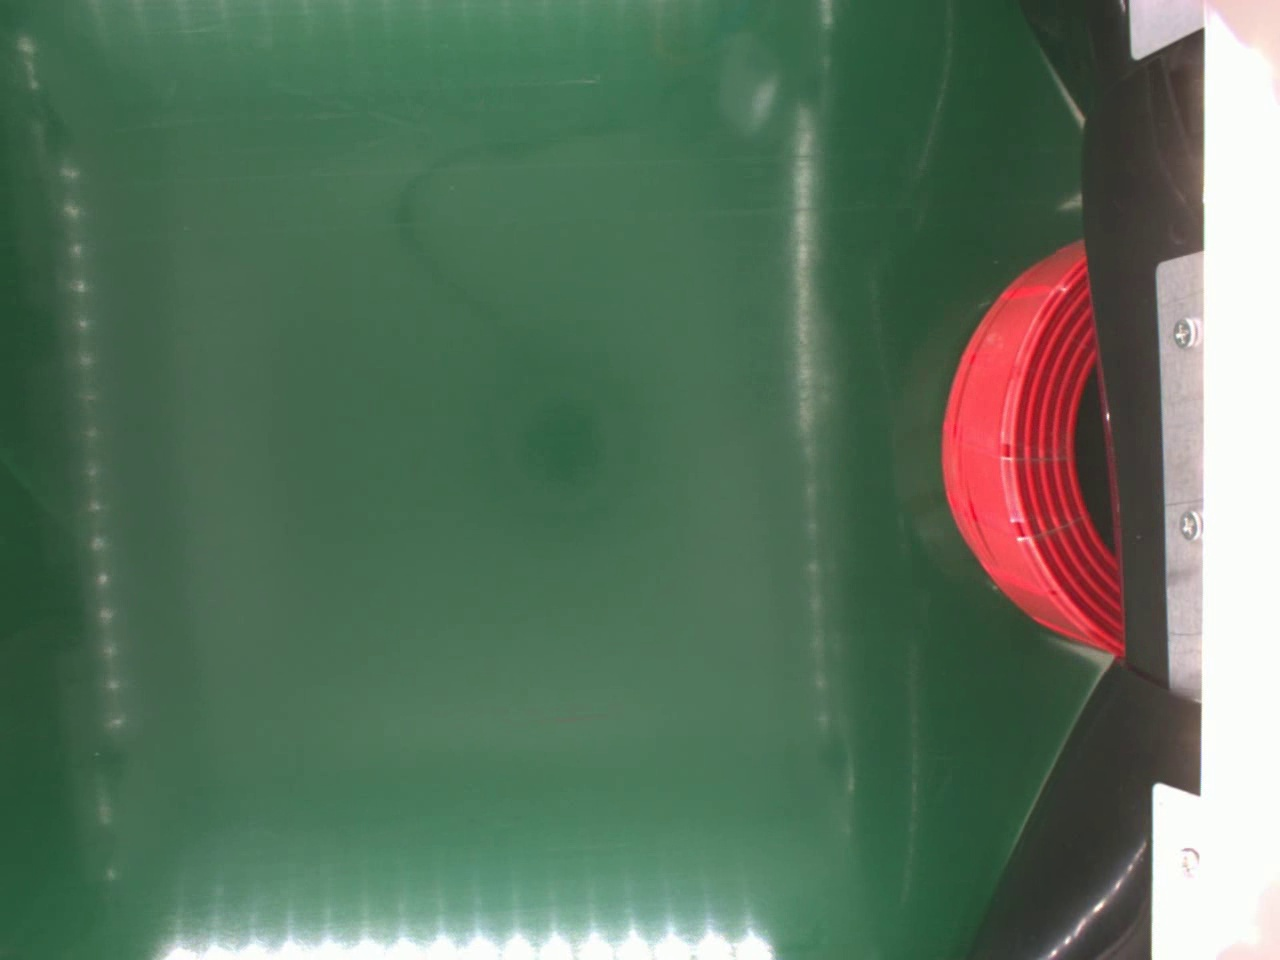red: (939, 232, 1124, 661)
